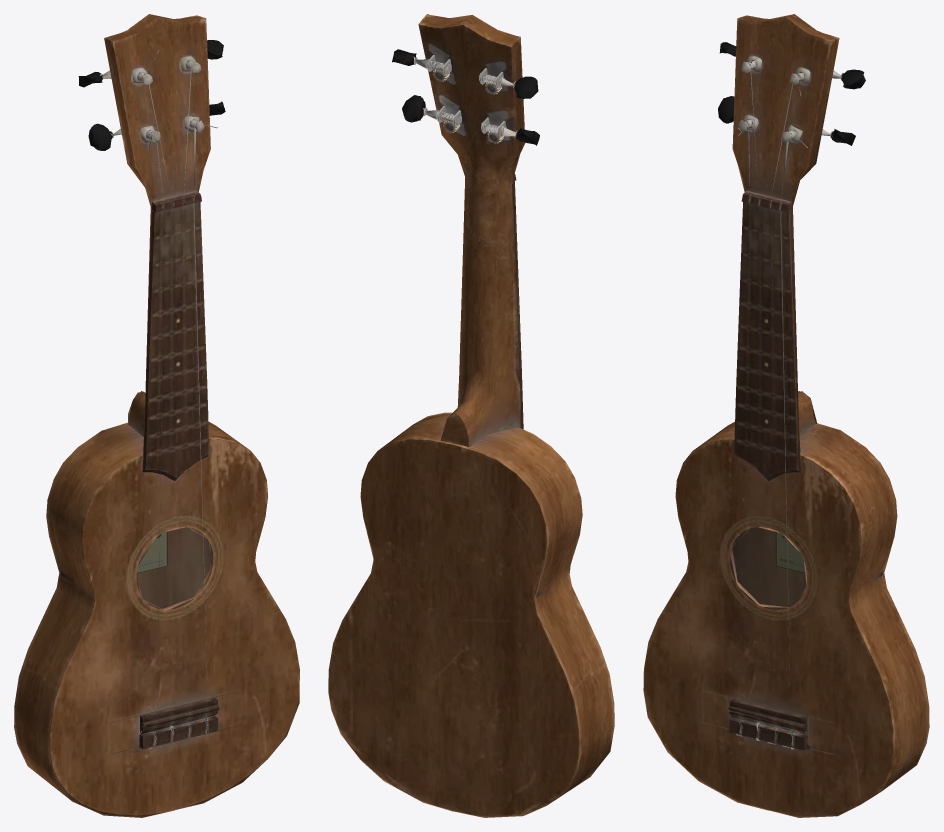
The model's file is ukulele.glb.
The picture shows the model from 3 angles, left to right: view 1: azimuth 30°, elevation 25°; view 2: azimuth 150°, elevation 25°; view 3: azimuth 330°, elevation 25°; orthographic projection.
Parts seen in each view (by area): view 1: ukulele; view 2: ukulele; view 3: ukulele.
Part boxes in pixels (left/top/right/bottom): ukulele: left=14, top=14, right=299, bottom=817; ukulele: left=328, top=14, right=614, bottom=817; ukulele: left=643, top=14, right=929, bottom=817.
Size of the model in its own units: 0.1765 by 0.5267 by 0.0508.
1 material, 1 textured.
